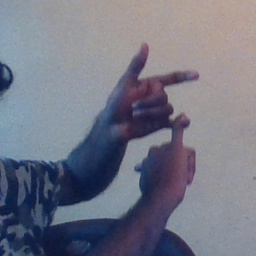S: (105, 35, 211, 197)
